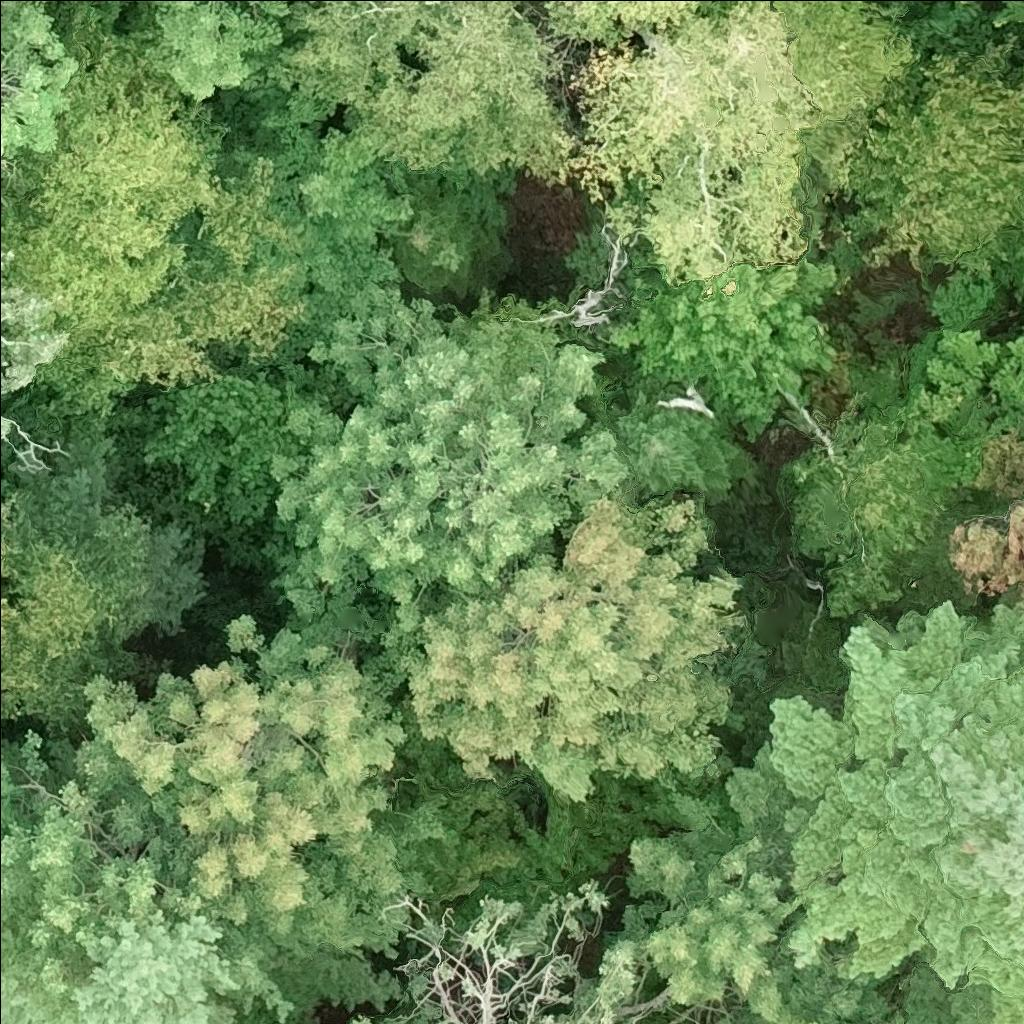crown: (0, 620, 521, 1003), (735, 604, 1023, 1023), (273, 301, 628, 634), (404, 504, 751, 800), (0, 36, 272, 341), (574, 2, 816, 280), (792, 331, 1023, 616), (0, 438, 209, 731), (34, 213, 298, 428), (656, 0, 939, 199), (623, 822, 901, 1023), (279, 0, 574, 188), (598, 260, 840, 442), (849, 36, 1023, 275), (146, 363, 361, 517), (0, 912, 288, 1023), (614, 393, 752, 496), (948, 433, 1023, 605), (0, 0, 81, 157), (155, 0, 273, 93), (936, 239, 1023, 336), (537, 0, 702, 44), (0, 283, 59, 391), (0, 558, 18, 635), (0, 416, 14, 440), (25, 0, 52, 5), (429, 1019, 444, 1023), (348, 1021, 366, 1023), (0, 252, 3, 263)
